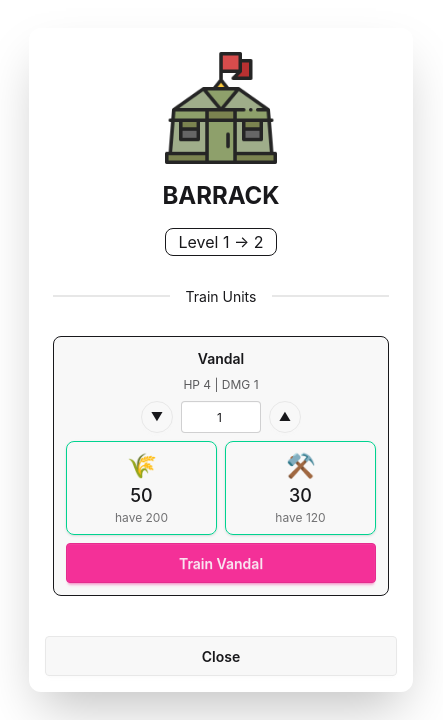
Test: BuildingUpgradeCard — train action queue render › queue section renders immediately after POST /train response without a second fetch
Click the button with test id "train-vandal-button". click: click(221, 563)
box: top-left (66, 543), bottom-right (376, 583)
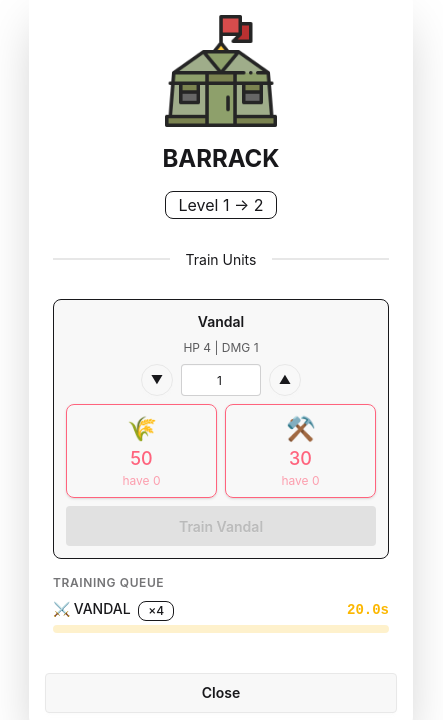
Now the element with test id "training-queue" is shown, box top-left (53, 575), bottom-right (389, 633)
Now the text "20.0s" is shown, box top-left (347, 600), bottom-right (389, 620)
